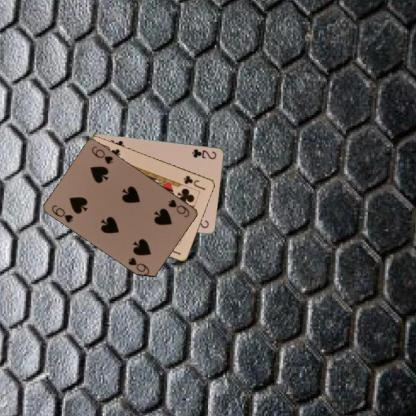2c: (189, 146, 218, 161)
6s: (49, 202, 75, 224), (166, 196, 191, 218)
Jc: (181, 173, 207, 191)
